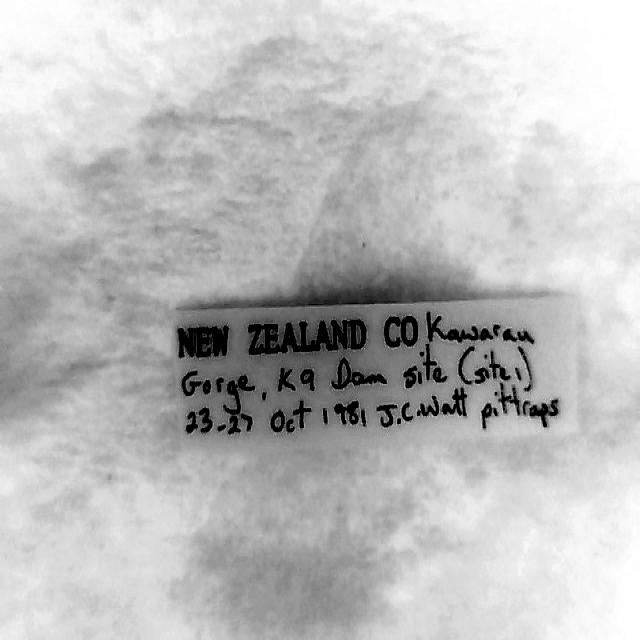mixed_label: (176, 297, 578, 446)
